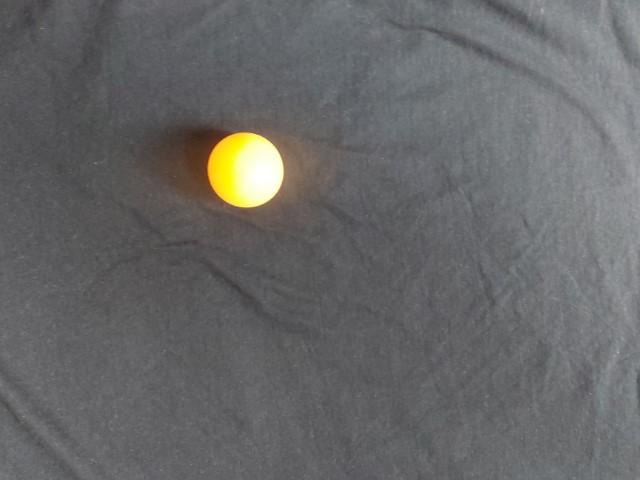oball: (352, 269, 436, 352)
